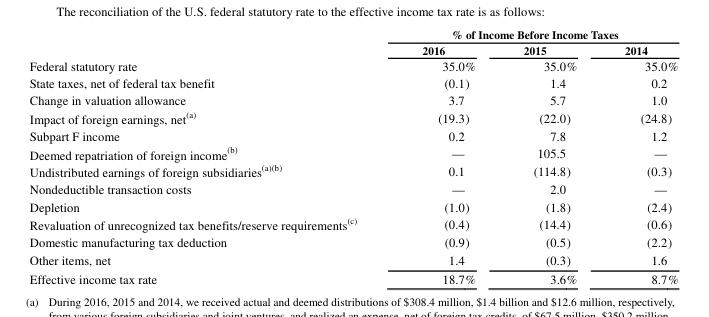table: (28, 28, 677, 285)
table column: (28, 28, 388, 285), (388, 28, 498, 285), (498, 28, 600, 285), (600, 28, 677, 285)
table column header: (28, 28, 677, 58)
table row: (28, 214, 677, 234), (28, 108, 677, 127), (28, 162, 677, 181), (28, 74, 677, 92), (28, 144, 677, 162), (28, 251, 677, 269), (28, 127, 677, 144), (28, 181, 677, 198), (28, 234, 677, 251), (28, 42, 677, 58), (28, 58, 677, 74), (28, 92, 677, 108), (28, 198, 677, 214), (28, 269, 677, 285), (28, 28, 677, 42)
table spanning cell: (388, 28, 677, 42)
